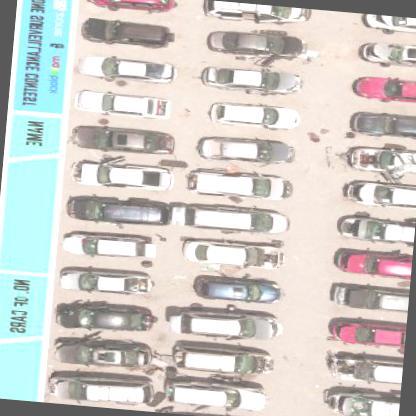car: (180, 236, 290, 274), (168, 307, 283, 343), (52, 333, 156, 371), (61, 297, 161, 335), (66, 192, 166, 228), (171, 342, 276, 376), (186, 170, 296, 202), (72, 123, 178, 156), (70, 159, 176, 192), (206, 26, 306, 60), (165, 378, 268, 411), (178, 204, 290, 234), (76, 53, 179, 85), (58, 376, 160, 408), (80, 15, 178, 48), (199, 0, 314, 28), (202, 63, 302, 95), (65, 265, 162, 297), (200, 134, 295, 166), (191, 274, 284, 306), (75, 89, 170, 119), (209, 100, 298, 132), (69, 233, 162, 262), (332, 350, 402, 388), (343, 210, 415, 245), (340, 245, 412, 280), (334, 282, 408, 314), (334, 318, 406, 350), (348, 177, 415, 211), (328, 384, 401, 415), (355, 107, 415, 142), (351, 145, 415, 177), (357, 73, 415, 107), (366, 41, 415, 70), (84, 0, 178, 15), (367, 14, 415, 40)
